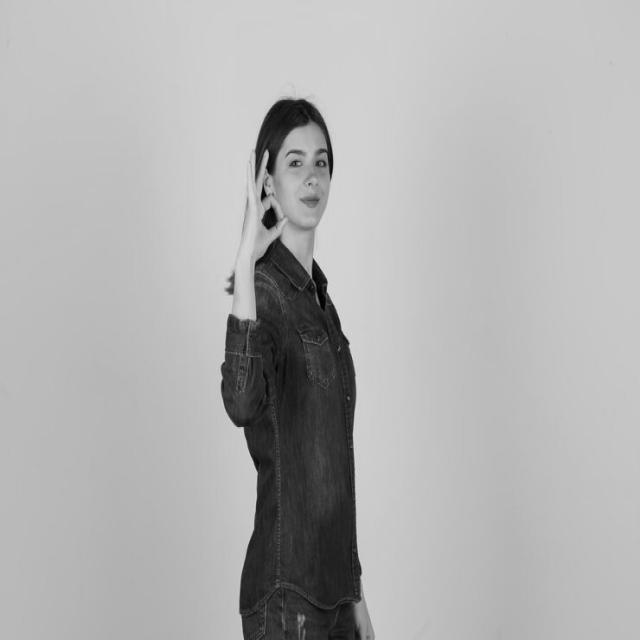perfect: (234, 139, 290, 276)
